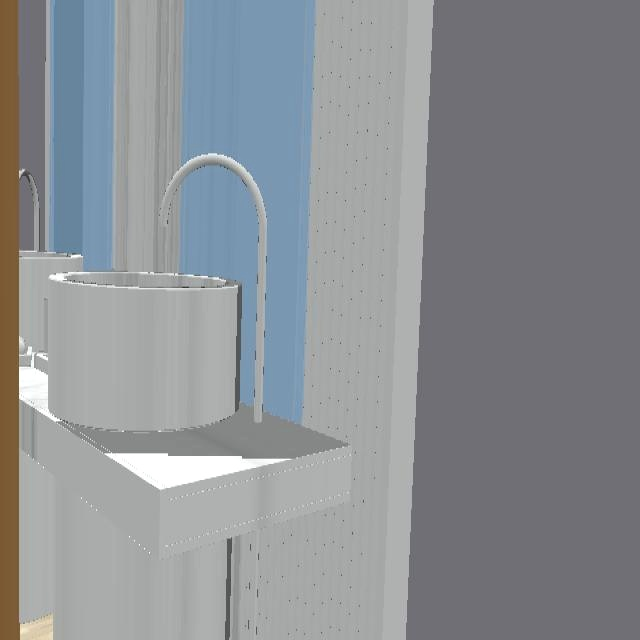shelf: (21, 374, 351, 558)
washbasin: (20, 170, 241, 429), (160, 153, 266, 422)
